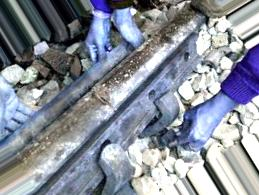tracks_fault: (56, 42, 207, 135)
